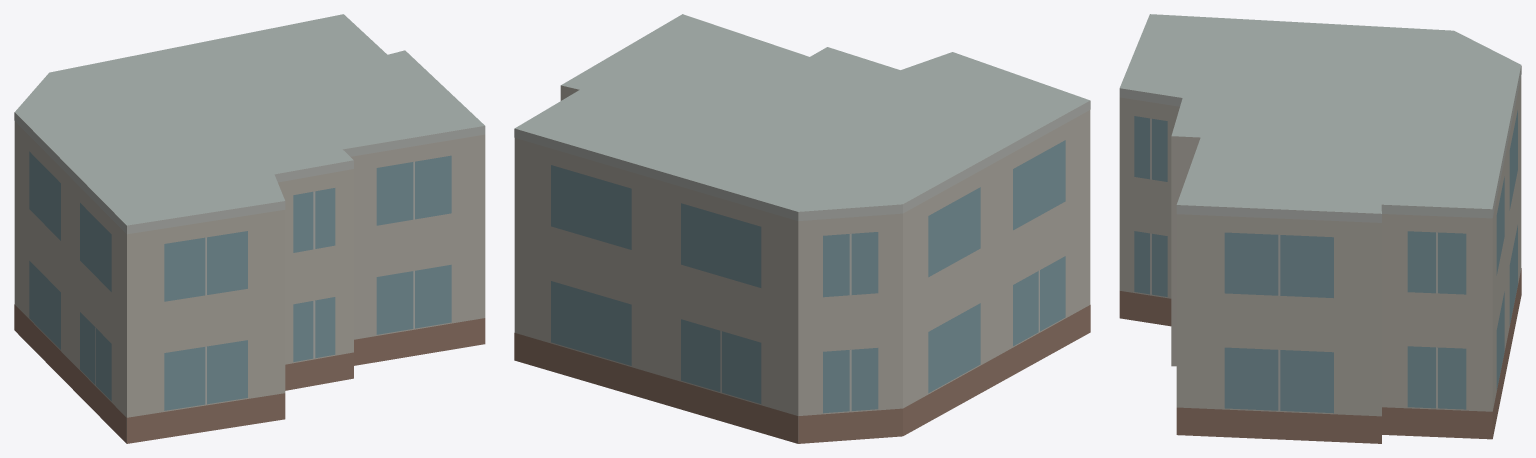
Rendered from survey-upis-32786625.glb.
3 views of the same model, side by side, from view 1: azimuth 30°, elevation 25°; view 2: azimuth 150°, elevation 25°; view 3: azimuth 270°, elevation 25° (orthographic). The views are drawn at different scales.
Visible parts, largest first — view 1: survey-upis-32786625.tmp; view 2: survey-upis-32786625.tmp; view 3: survey-upis-32786625.tmp.
Part boxes in pixels (x1,y1,x2,y2): survey-upis-32786625.tmp: [14, 14, 485, 443]; survey-upis-32786625.tmp: [514, 14, 1090, 443]; survey-upis-32786625.tmp: [1119, 14, 1521, 443].
Bounding box in the file's own units: 11.37 × 6.1 × 9.67.
